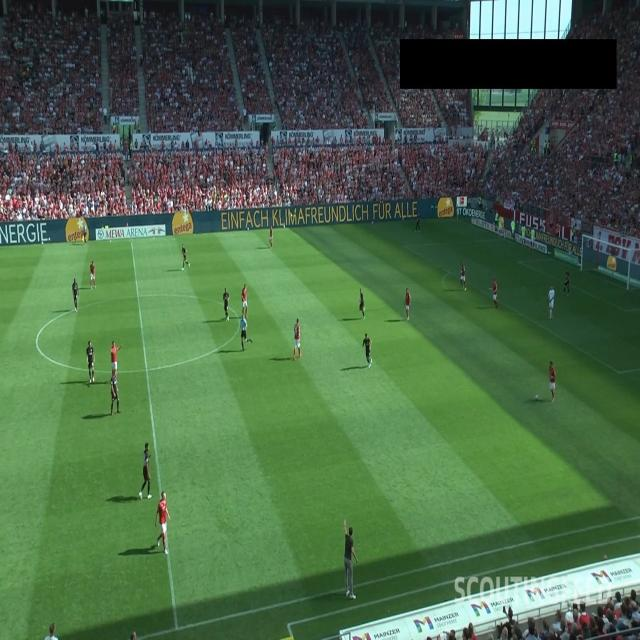ball: (535, 393, 539, 401)
